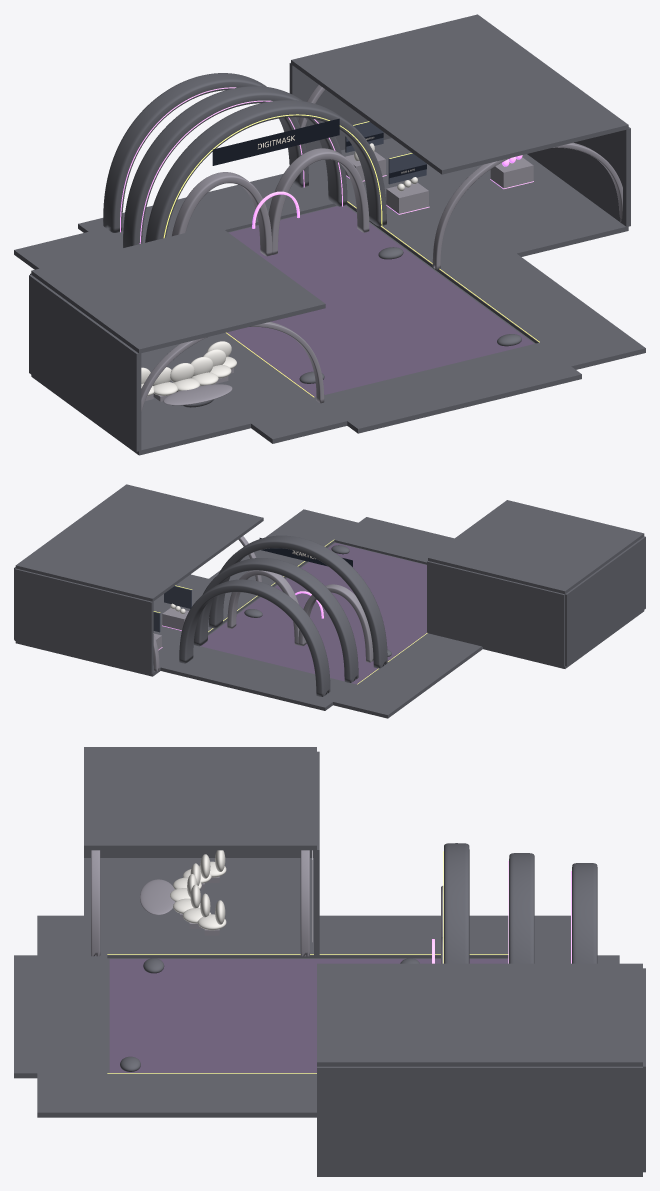
Rendered from digitmask-pavilion.glb.
3 views of the same model, one above another, from view 1: azimuth 30°, elevation 25°; view 2: azimuth 150°, elevation 25°; view 3: azimuth 270°, elevation 25° (orthographic). The views are drawn at different scales.
Visible parts, largest first — view 1: Gallery_Canopy, Water_Surface_Runtime_Replace, Lounge_Canopy, Courtyard_Promenade_8, Lounge_Outer_Wall, Gallery_Floor, Courtyard_End_11, Courtyard_Promenade_-8, Lounge_Floor, Mask_Arch_0, Mask_Arch_1, Courtyard_End_-11 (+12 smaller); view 2: Gallery_Canopy, Water_Surface_Runtime_Replace, Lounge_Canopy, Gallery_Rear_Wall, Lounge_Rear_Wall, Lounge_Outer_Wall, Courtyard_Promenade_-8, Courtyard_End_-11, Mask_Arch_0, Mask_Arch_2, Mask_Arch_1, Courtyard_Promenade_8 (+8 smaller); view 3: Gallery_Outer_Wall, Gallery_Canopy, Lounge_Canopy, Water_Surface_Runtime_Replace, Courtyard_Promenade_-8, Lounge_Floor, Courtyard_Promenade_8, Courtyard_End_11, Mask_Arch_0, Mask_Arch_1, Mask_Arch_2, Lounge_Outer_Wall (+7 smaller).
Part boxes in pixels (x1,y1,x2,y2): Gallery_Canopy: (291, 14, 628, 174); Water_Surface_Runtime_Replace: (226, 205, 534, 397); Lounge_Canopy: (31, 225, 325, 353); Courtyard_Promenade_8: (313, 159, 645, 369); Lounge_Outer_Wall: (29, 275, 141, 451); Gallery_Floor: (308, 138, 628, 271); Courtyard_End_11: (315, 343, 581, 433); Courtyard_Promenade_-8: (14, 232, 347, 443); Lounge_Floor: (31, 332, 298, 455); Mask_Arch_0: (145, 100, 386, 242); Mask_Arch_1: (123, 86, 347, 247); Courtyard_End_-11: (78, 173, 336, 250); Gallery_Canopy: (15, 484, 263, 601); Water_Surface_Runtime_Replace: (200, 543, 426, 684); Lounge_Canopy: (428, 500, 644, 594); Gallery_Rear_Wall: (14, 568, 153, 674); Lounge_Rear_Wall: (427, 561, 564, 666); Lounge_Outer_Wall: (565, 536, 645, 666); Courtyard_Promenade_-8: (333, 633, 482, 718); Courtyard_End_-11: (160, 645, 356, 710); Mask_Arch_0: (209, 535, 387, 668); Mask_Arch_2: (179, 579, 330, 696); Mask_Arch_1: (193, 558, 358, 682); Courtyard_Promenade_8: (157, 509, 357, 661); Gallery_Outer_Wall: (317, 1066, 642, 1173); Gallery_Canopy: (317, 963, 642, 1066); Lounge_Canopy: (84, 747, 316, 850); Water_Surface_Runtime_Replace: (109, 959, 508, 1072); Courtyard_Promenade_-8: (37, 915, 570, 958); Lounge_Floor: (84, 858, 316, 958); Courtyard_Promenade_8: (37, 1073, 316, 1117); Courtyard_End_11: (14, 955, 107, 1078); Mask_Arch_0: (444, 843, 469, 963); Mask_Arch_1: (509, 853, 534, 963); Mask_Arch_2: (572, 863, 597, 963); Lounge_Outer_Wall: (84, 850, 313, 857).
Size of the model in its own units: 32.25 by 7.88 by 27.12.
13 materials, 5 textured.
